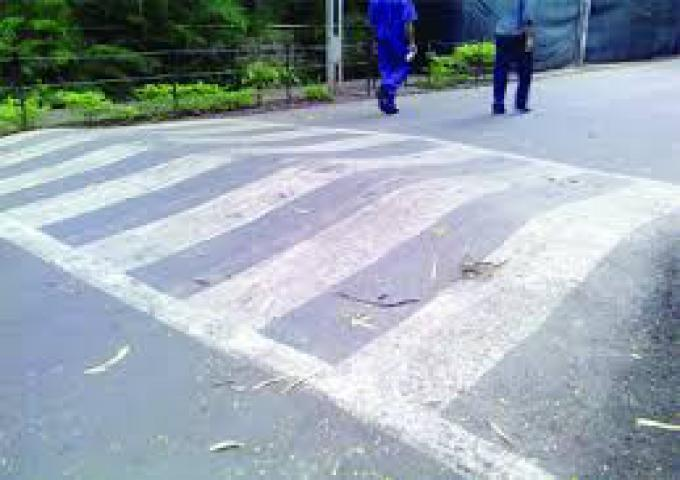Speed_Breaker: (0, 113, 679, 479), (0, 115, 680, 480)
